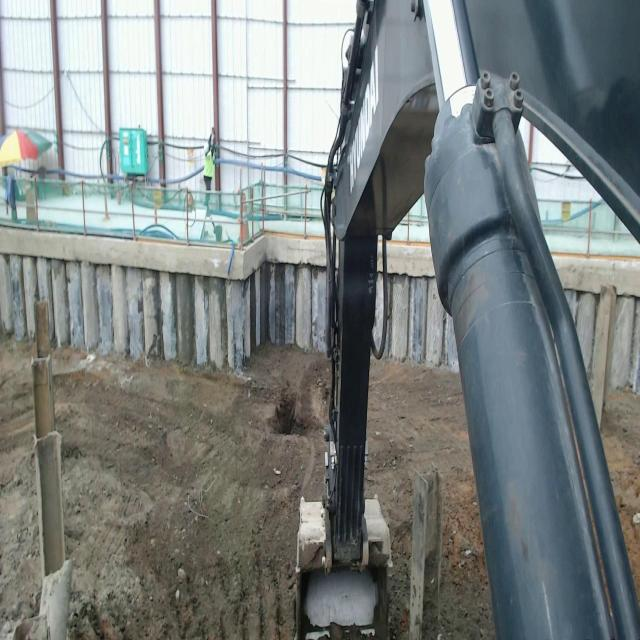white-sand: (53, 345, 329, 639), (366, 361, 494, 639), (0, 339, 41, 635), (603, 392, 640, 599)
